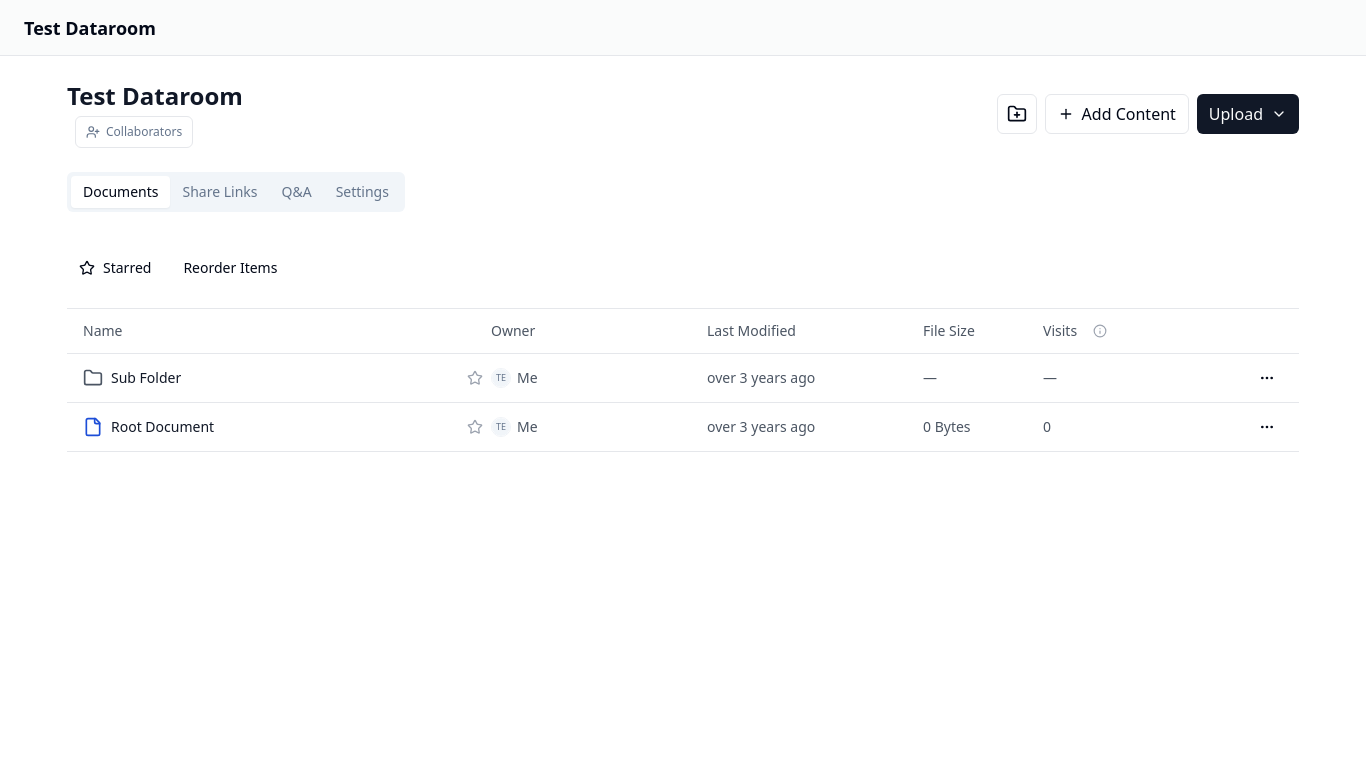
Test: DataroomPage › Content Management › should create a new folder and refresh the list
The width and height of the screenshot is (1366, 768).
Check: the button "Sub Folder" is shown, box [111,368,181,388]
Check: the text "New Test Folder" is not shown
Open the dialog
Click the button titled "New Folder" at (1017, 114), box [997,94,1037,134]
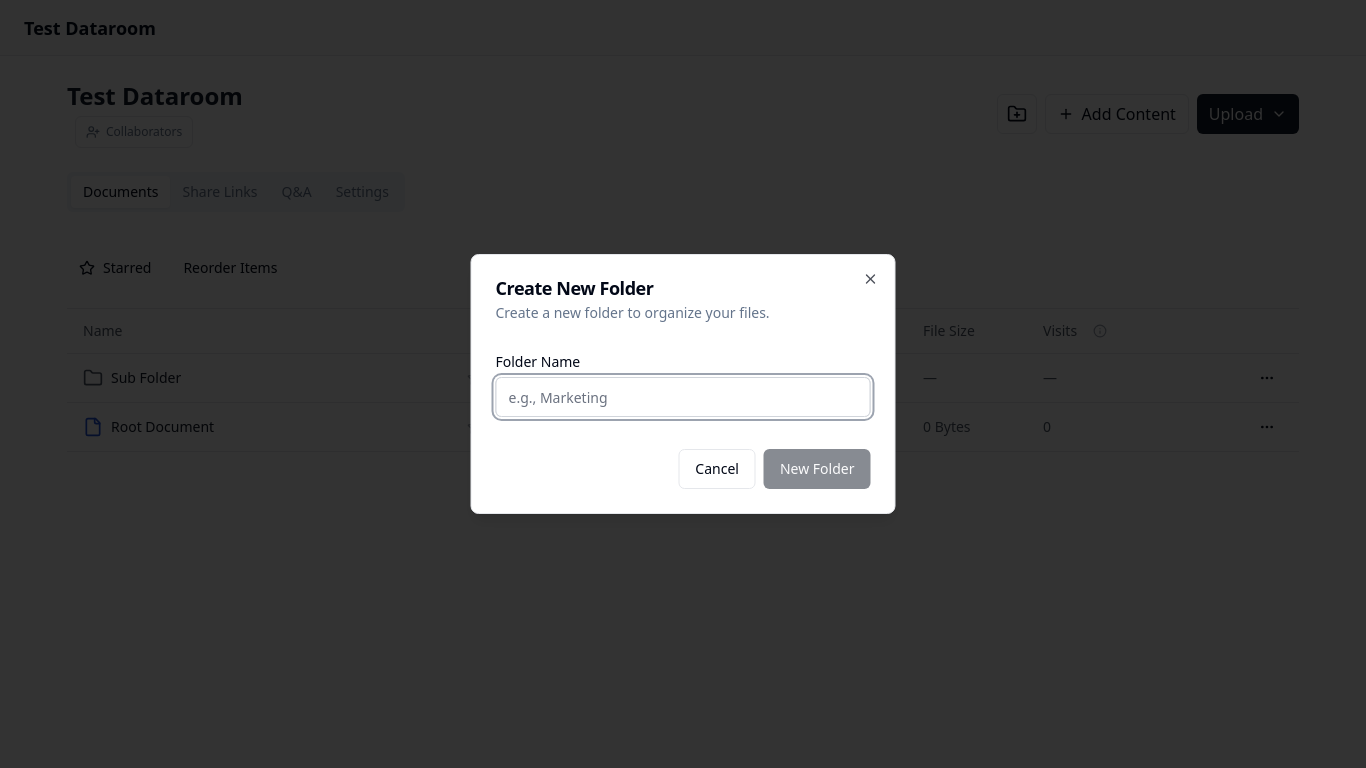
Check: the heading "Create New Folder" is shown, box [496,276,654,300]
Type "New Test Folder" into the field labelled "Folder Name" at (683, 397), box [496,377,870,417]
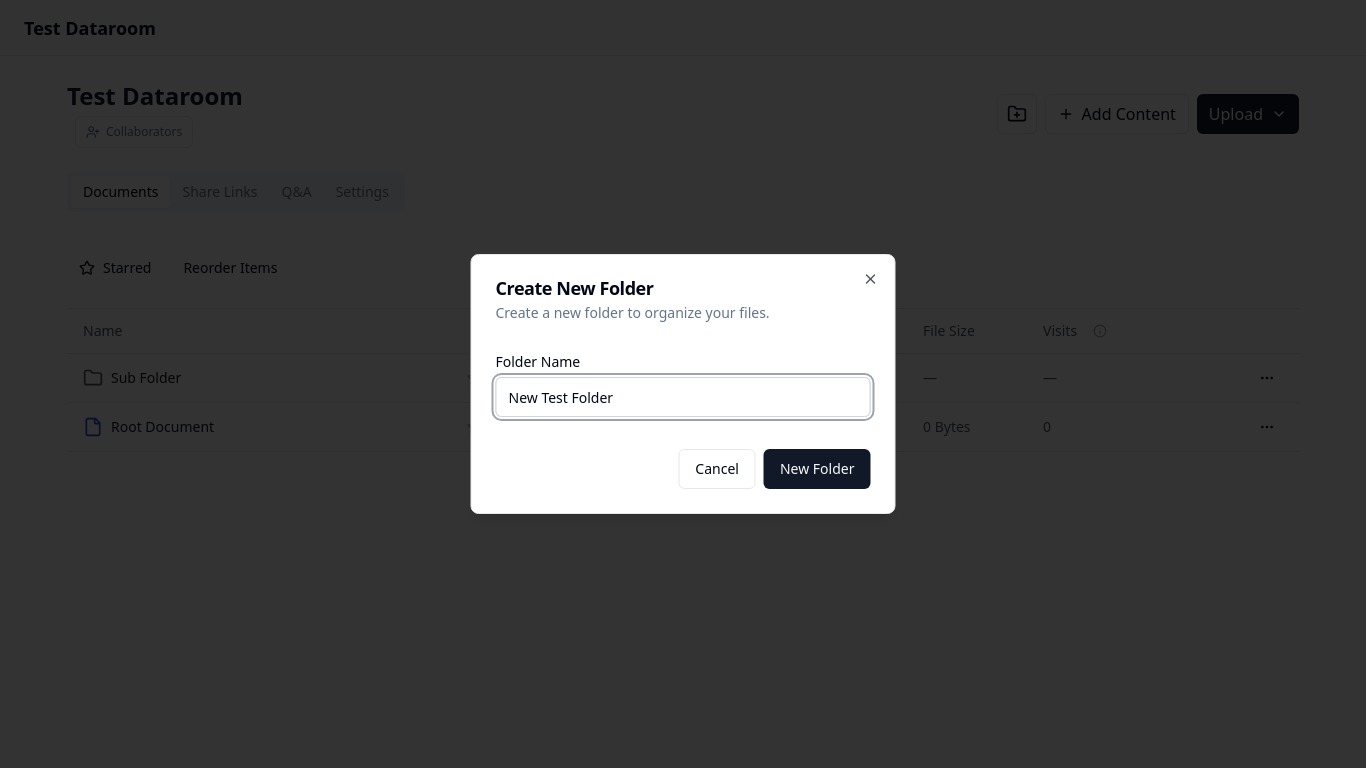
Click the button "New Folder" at (817, 469), box [764,449,870,489]
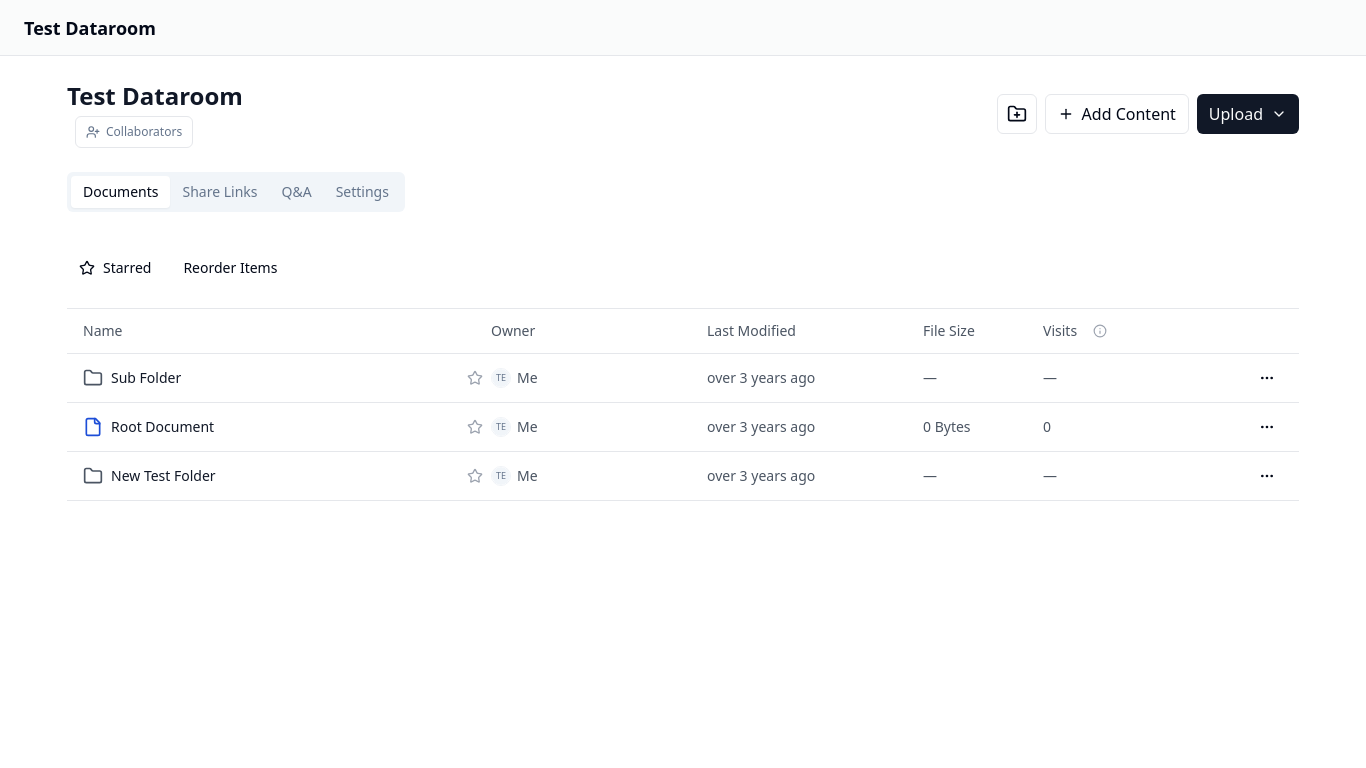
Check: the button "New Test Folder" is shown, box [111,466,216,486]
